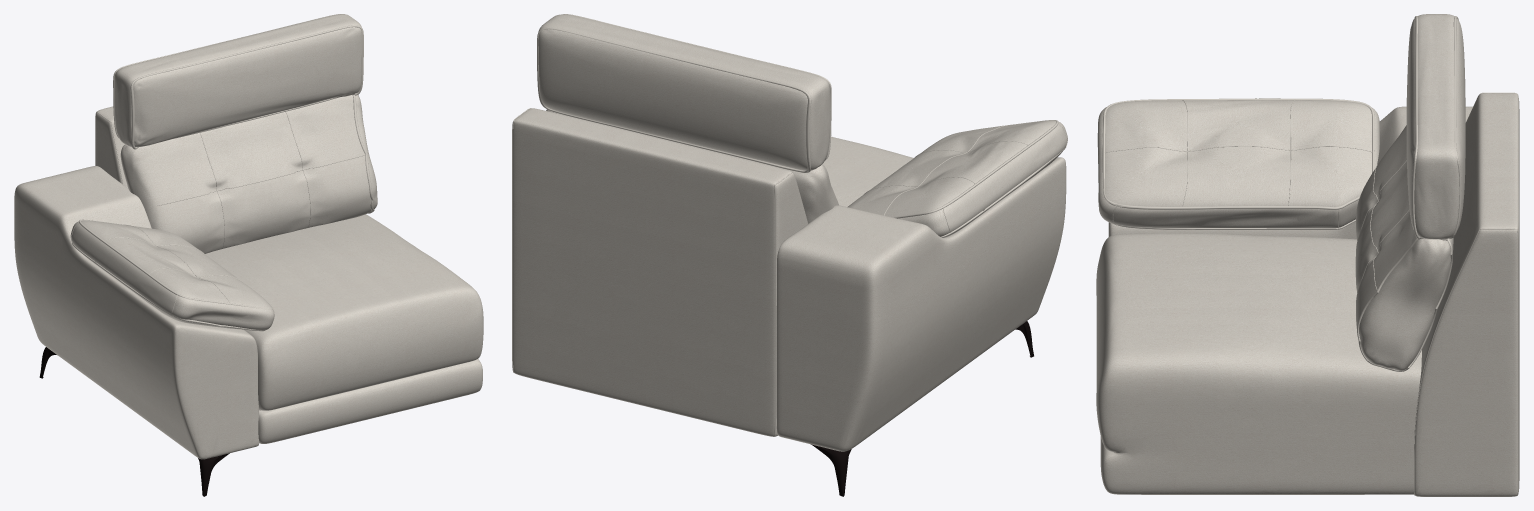
Rendered from arm.glb.
The picture shows the model from 3 angles, left to right: view 1: azimuth 30°, elevation 25°; view 2: azimuth 150°, elevation 25°; view 3: azimuth 270°, elevation 25°; orthographic projection. The views are drawn at different scales.
Parts seen in each view (by area): view 1: object 1, pé; view 2: object 1, pé; view 3: object 1.
Boxes of the visible parts, bbox=[...] form: object 1: bbox=[14, 14, 483, 459]; pé: bbox=[39, 347, 229, 496]; object 1: bbox=[512, 14, 1067, 451]; pé: bbox=[811, 321, 1033, 496]; object 1: bbox=[1096, 14, 1519, 496].
Bounding box in the file's own units: 1.12 × 1.06 × 1.03.
Materials: 2 (1 with a texture image).
